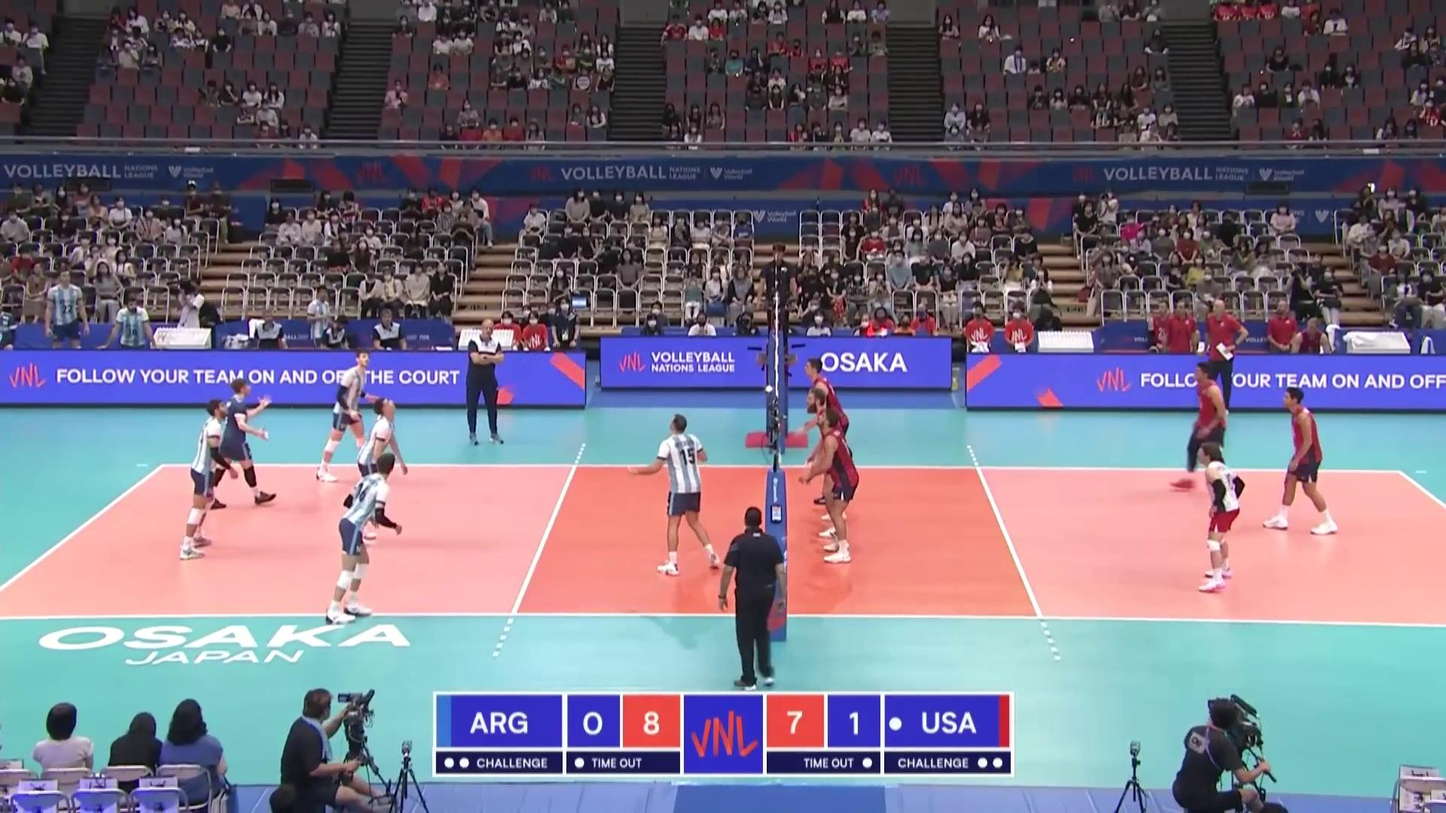player: (632, 413, 723, 573), (329, 455, 401, 626), (1262, 387, 1336, 533), (176, 398, 235, 564), (197, 381, 274, 508), (313, 349, 379, 483), (1173, 361, 1237, 495), (1189, 443, 1243, 594), (358, 398, 408, 547), (811, 413, 859, 563), (803, 358, 849, 507), (807, 392, 853, 539)
refree: (720, 504, 793, 688), (758, 242, 798, 361)
